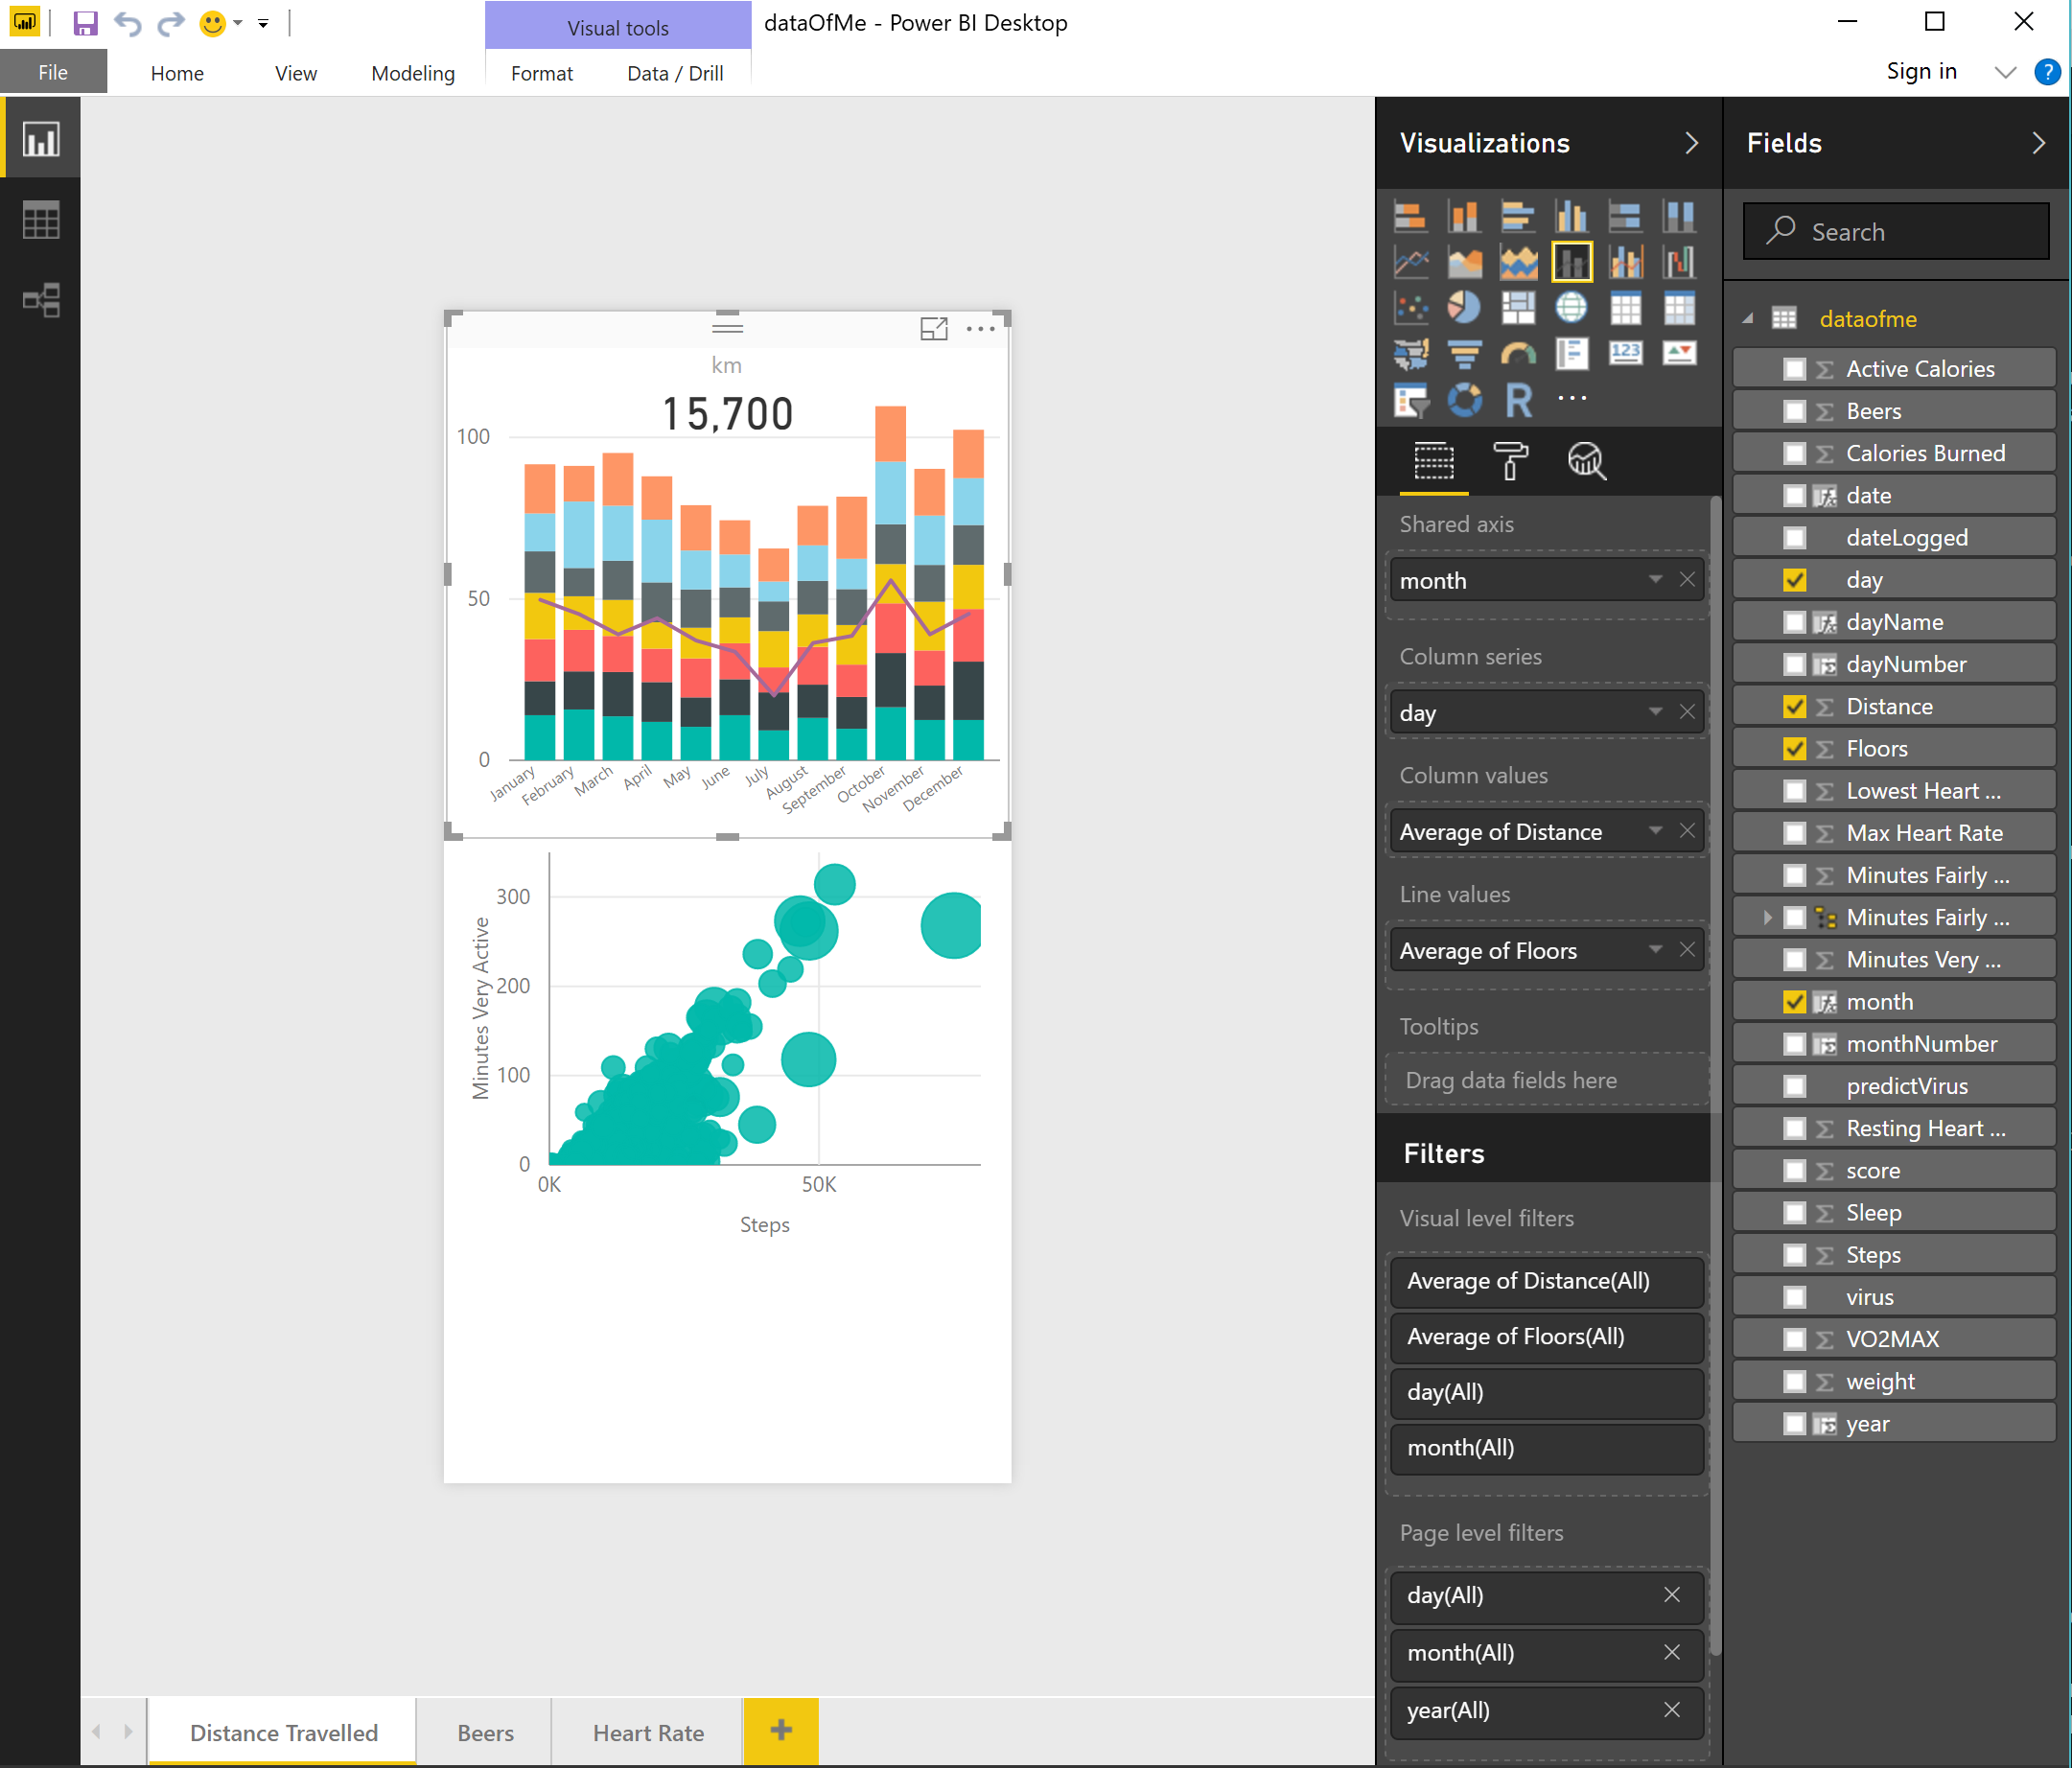

This screenshot's page, from the dashboard's own definition file:
{"tool":"powerbi","page":{"name":"Distance Travelled","canvas":[296,592],"ordinal":0},"visuals":[{"type":"lineStackedColumnComboChart","fields":{"Category":["dataofme.month"],"Y":["Avg(dataofme.distance)"],"Y2":["Avg(dataofme.floors)"],"Series":["dataofme.day"]},"box":[1,0,294,256],"z":1},{"type":"card","fields":{"Values":["Sum(dataofme.distance)"]},"box":[0,0,71,42],"z":2},{"type":"scatterChart","fields":{"X":["Sum(dataofme.steps)"],"Y":["Sum(dataofme.vigourousIntensityMinutes)"],"Size":["Sum(dataofme.floors)"],"Category":["dataofme.date"]},"box":[2,250,293,222],"z":3}]}

Visuals, with their boxes on the page's 296x592 design canvas (x1, y1, x2, y2). These are canvas units, not pixel positions in the 2072x1768 screenshot, which may show the page scaled, cropped or inside an application window:
lineStackedColumnComboChart - dataofme.month x Avg(dataofme.distance): 1, 0, 295, 256
card - Sum(dataofme.distance): 0, 0, 71, 42
scatterChart - Sum(dataofme.steps) x Sum(dataofme.vigourousIntensityMinutes): 2, 250, 295, 472
